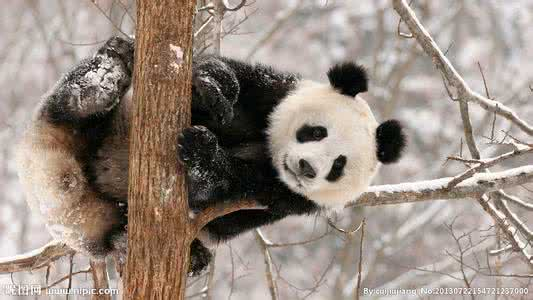panda: (39, 1, 404, 272)
